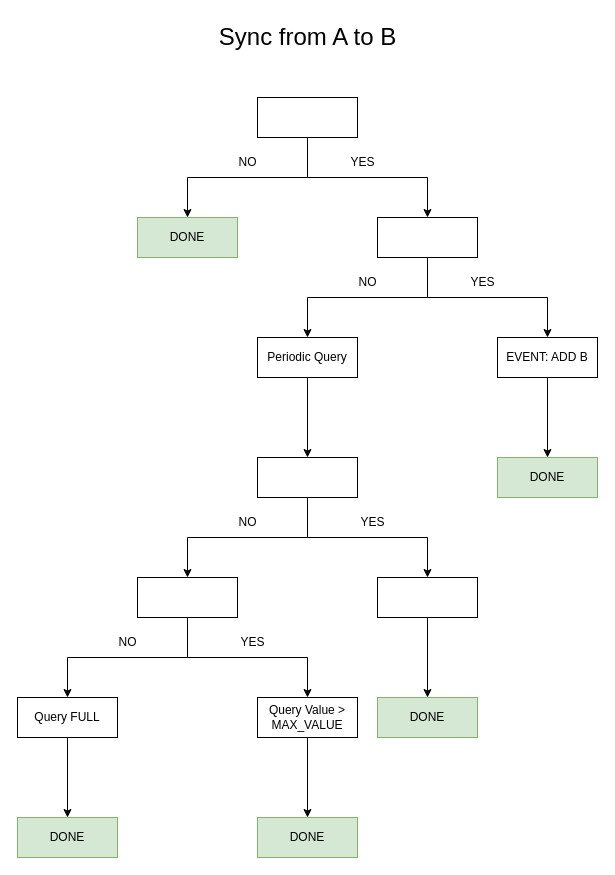
This 615x875 diagram has some shape labels left out. The centre of each missing label's shape, as x and y in pixels:
Changelogs?: pixel 307 477
Check Logs: pixel 427 597
Monotonic Filter? (ID,Date,...): pixel 187 597
System A ADD?: pixel 307 117
Webhooks?: pixel 427 237
